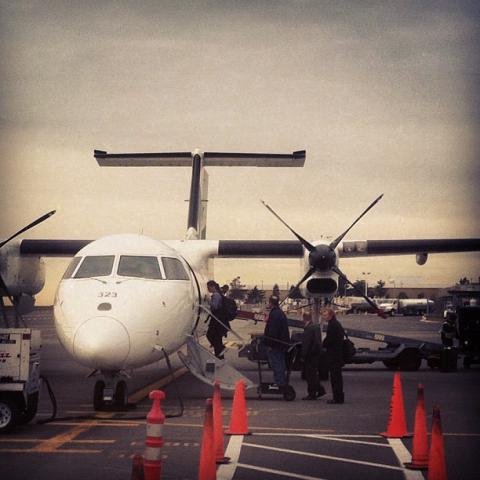truck: (0, 326, 45, 430), (379, 298, 435, 316)
